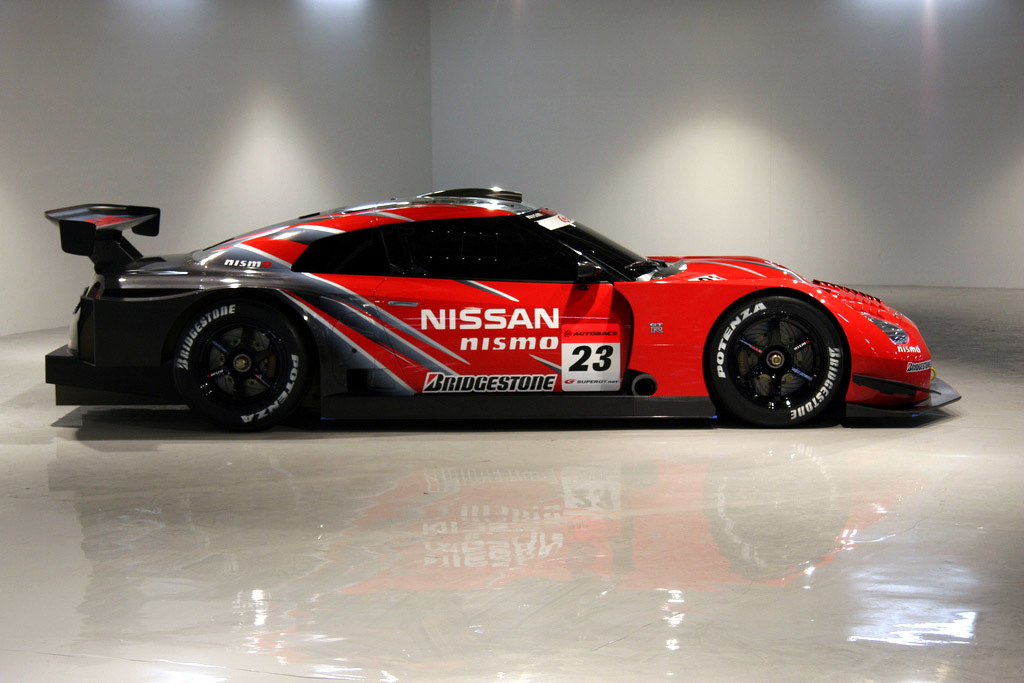cars: (42, 184, 958, 433)
